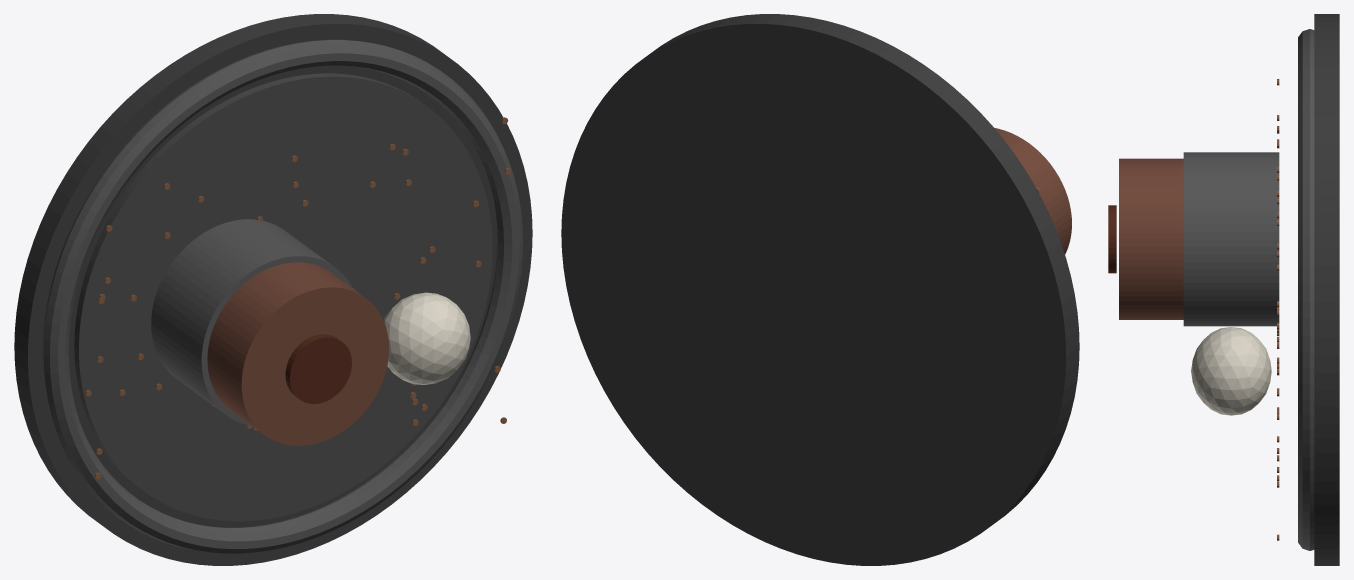
File: 08_grand_cru_chocolate_souffle.glb
3 views of the same model, side by side, from view 1: azimuth 30°, elevation 25°; view 2: azimuth 150°, elevation 25°; view 3: azimuth 270°, elevation 25° (orthographic). The views are drawn at different scales.
Visible parts, largest first — view 1: plate_surface, plate_rim, plate_base, grand_cru_chocolate_souffle, dark_ramekin, tonka_vanilla_ice_cream, molten_center_opening; view 2: plate_base, grand_cru_chocolate_souffle; view 3: dark_ramekin, plate_base, grand_cru_chocolate_souffle, plate_rim, tonka_vanilla_ice_cream, molten_center_opening.
Part boxes in pixels (x1,y1,x2,y2): plate_surface: (74, 73, 492, 521); plate_rim: (42, 39, 522, 553); plate_base: (14, 14, 532, 565); grand_cru_chocolate_souffle: (207, 262, 389, 445); dark_ramekin: (151, 219, 352, 426); tonka_vanilla_ice_cream: (383, 292, 470, 384); molten_center_opening: (285, 334, 351, 403); plate_base: (561, 14, 1079, 565); grand_cru_chocolate_souffle: (994, 128, 1071, 254); dark_ramekin: (1183, 152, 1279, 326); plate_base: (1314, 14, 1339, 565); grand_cru_chocolate_souffle: (1119, 158, 1183, 319); plate_rim: (1298, 29, 1314, 550); tonka_vanilla_ice_cream: (1191, 327, 1271, 415); molten_center_opening: (1108, 205, 1116, 273).
Bounding box in the file's own units: 0.26 × 0.26 × 0.109.
